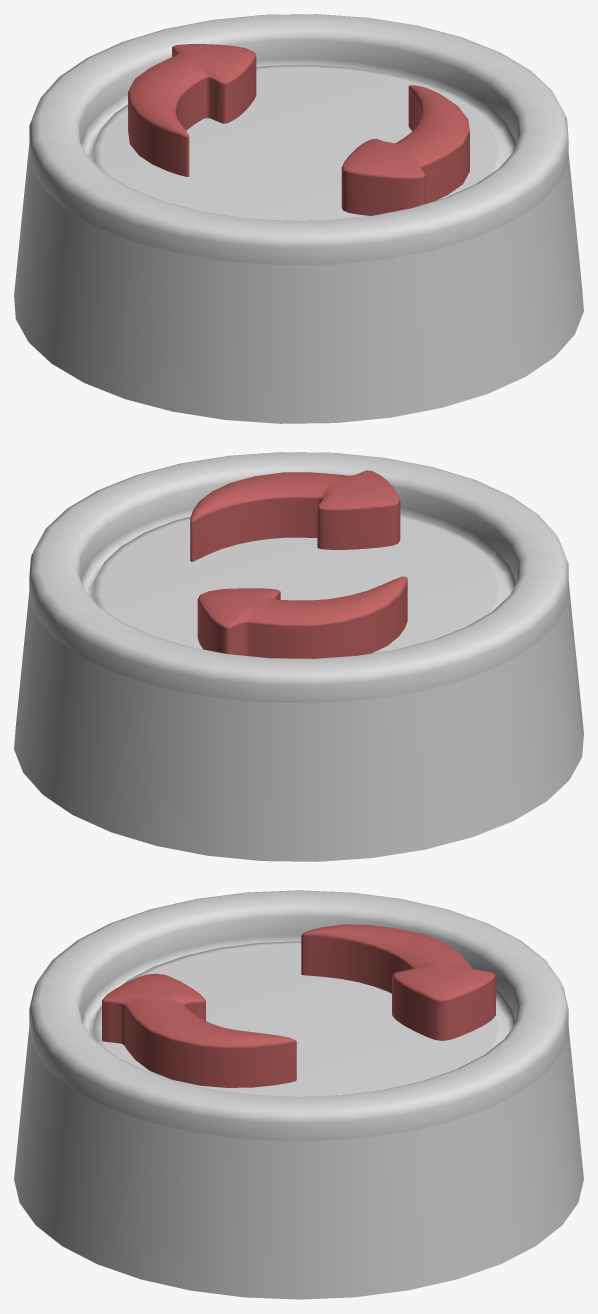
File: Circle with arrow.fbx
3 views of the same model, one above another, from view 1: azimuth 30°, elevation 25°; view 2: azimuth 150°, elevation 25°; view 3: azimuth 270°, elevation 25° (orthographic).
Parts seen in each view (by area): view 1: Cylinder, Plane.003; view 2: Cylinder, Plane.003; view 3: Cylinder, Plane.003.
Boxes of the visible parts, bbox=[...] form: Cylinder: bbox=[14, 14, 583, 423]; Plane.003: bbox=[128, 44, 469, 215]; Cylinder: bbox=[14, 452, 583, 861]; Plane.003: bbox=[190, 470, 407, 658]; Cylinder: bbox=[14, 890, 583, 1299]; Plane.003: bbox=[102, 924, 495, 1087].
Size of the model in its own units: 0.6235 by 0.2387 by 0.6235.
